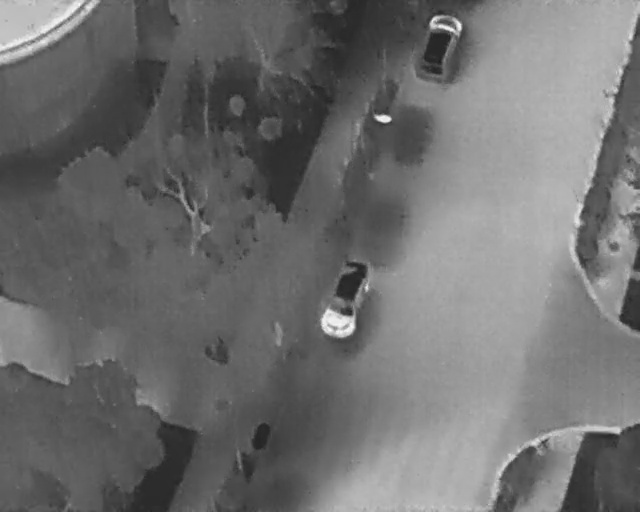Car: (313, 254, 376, 345), (408, 5, 468, 90)
